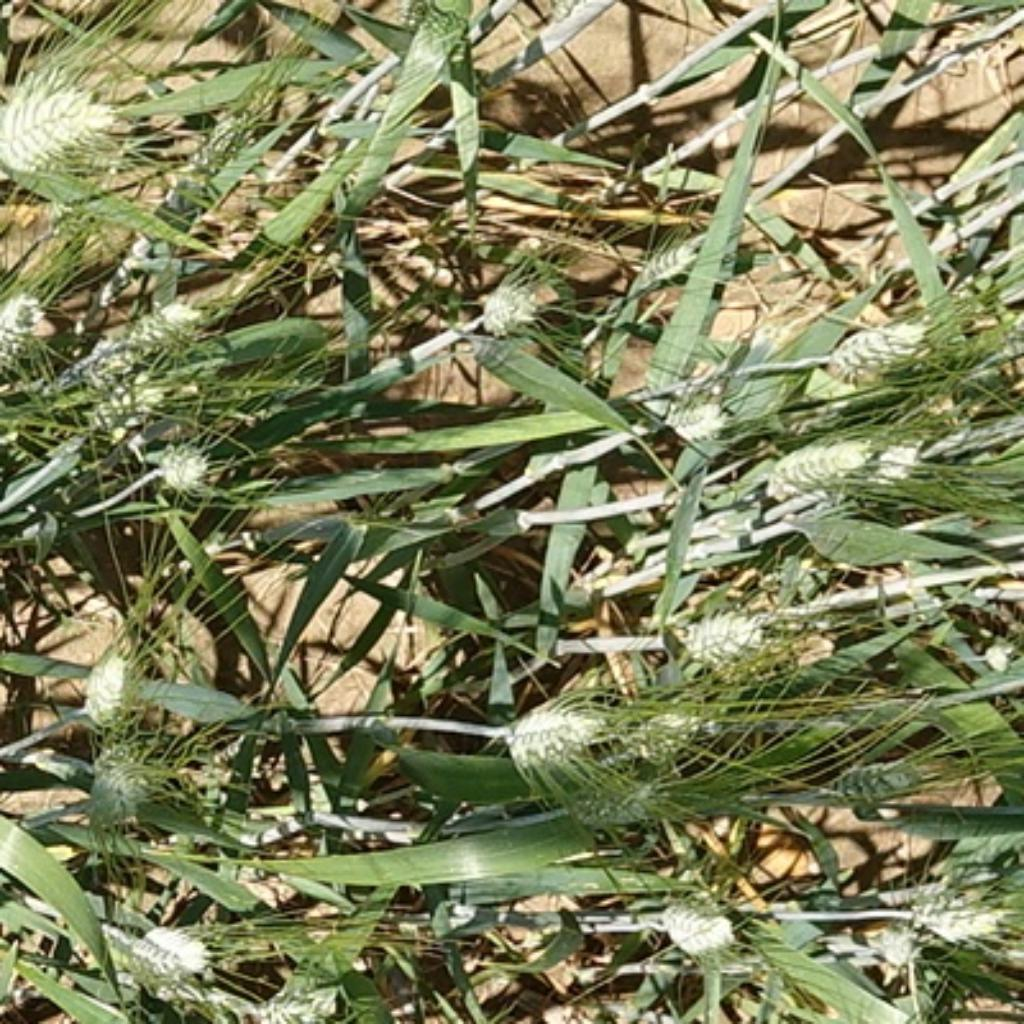0-0: (64, 286, 192, 419), (0, 57, 125, 176), (821, 289, 965, 386), (670, 604, 806, 676), (81, 291, 207, 368), (460, 253, 560, 340), (619, 217, 719, 304), (496, 686, 606, 765), (184, 99, 278, 187), (765, 431, 890, 496), (576, 760, 708, 820), (650, 878, 742, 957), (110, 920, 209, 985), (93, 731, 164, 816), (71, 634, 140, 721), (816, 758, 941, 806), (911, 889, 1007, 950), (655, 389, 737, 452), (238, 978, 346, 1024), (0, 268, 48, 366), (145, 432, 212, 491), (864, 922, 913, 971)
